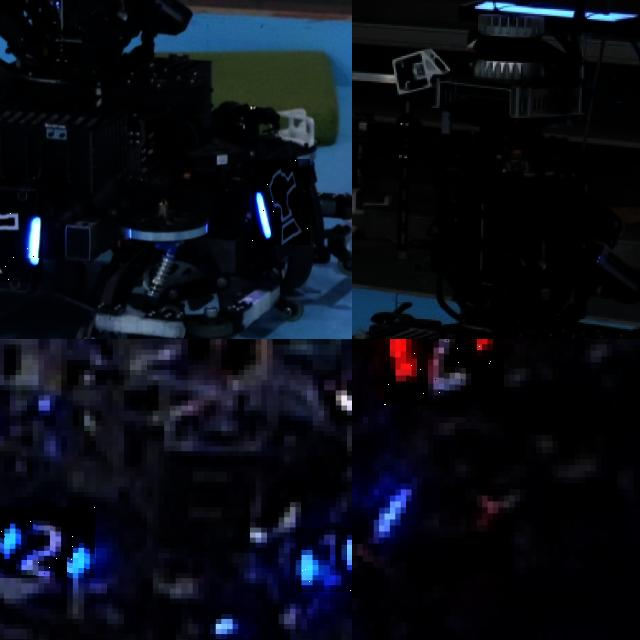B2: (0, 507, 95, 578), (295, 527, 352, 593)
Bs: (252, 159, 310, 245), (0, 190, 43, 282)
R2: (384, 339, 503, 405)
